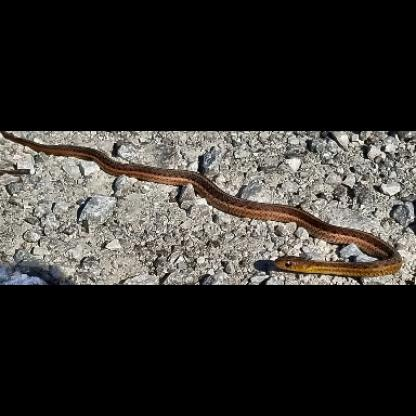Snake: (7, 148, 411, 269)
